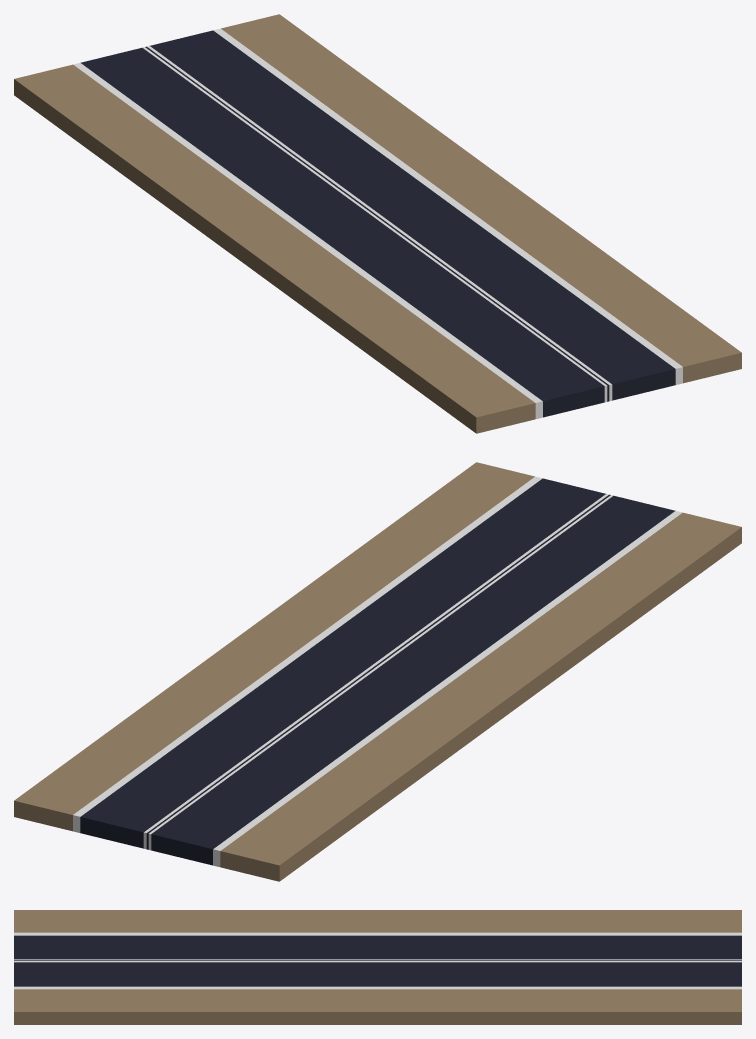
File: CityRoad001.fbx
3 renders of one model, top to bottom at view 1: azimuth 30°, elevation 25°; view 2: azimuth 150°, elevation 25°; view 3: azimuth 270°, elevation 25°, orthographic. The views are drawn at different scales.
Parts seen in each view (by area): view 1: Cube; view 2: Cube; view 3: Cube.
Boxes of the visible parts, x1,y1,x2,y2 form: Cube: [14, 14, 741, 433]; Cube: [14, 462, 741, 881]; Cube: [14, 910, 741, 1024].
Size of the model in its own units: 200 by 11.74 by 603.
